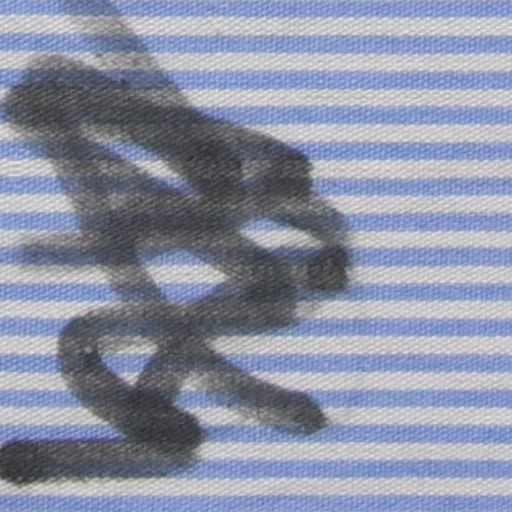defect: (1, 1, 345, 482)
